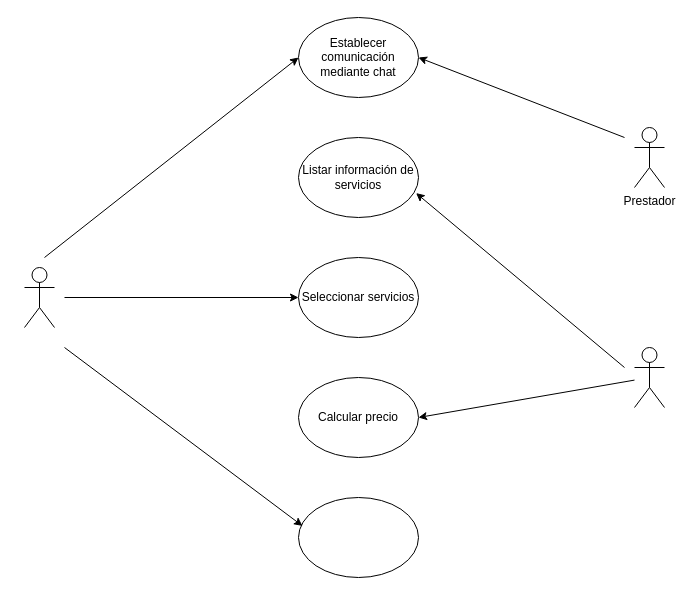
This 693x595 diagram has some shape labels left out. Here are the shapes that lost their labels. From the top down, the box of each, then its label:
(24, 266, 54, 328): Persona
(634, 346, 664, 408): Sistema
(298, 496, 418, 578): Confirmar oferta
